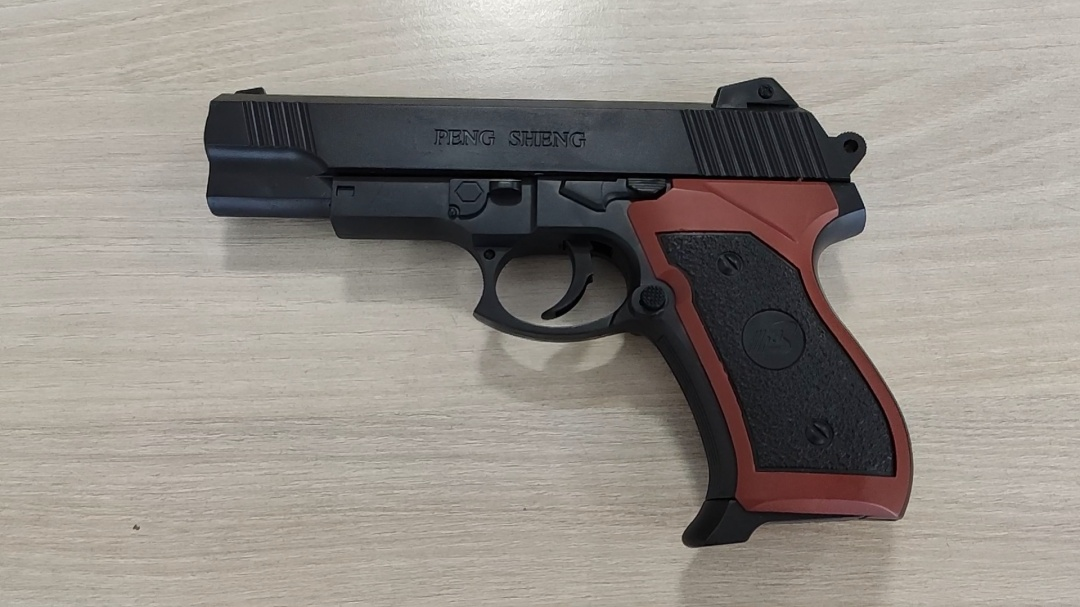gun: (201, 77, 913, 547)
